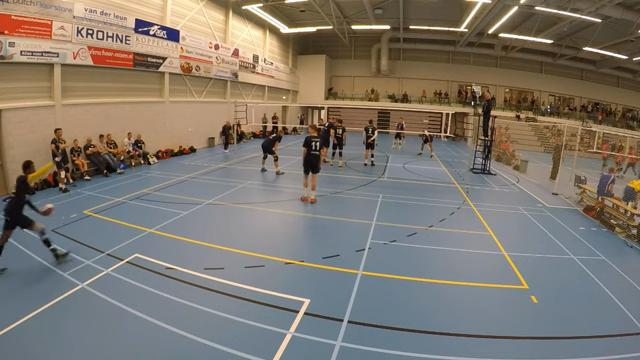Attack: (0, 151, 72, 278)
Player: (301, 124, 321, 203), (261, 130, 283, 174), (330, 119, 346, 168), (363, 119, 377, 165), (321, 117, 335, 162), (417, 129, 432, 157), (392, 117, 404, 149)
ball: (38, 203, 55, 216)
